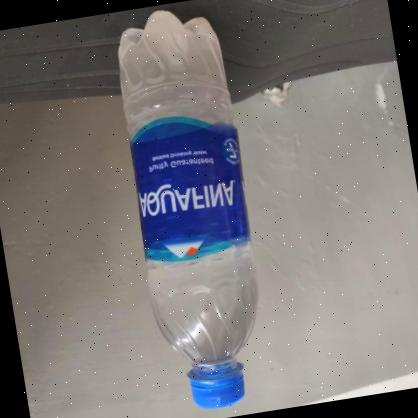bottle: (97, 0, 282, 418)
cap: (186, 361, 250, 411)
label: (124, 107, 256, 258)
